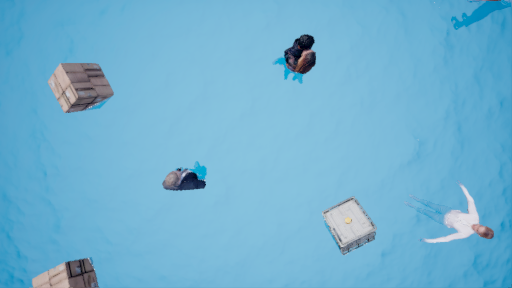person: (407, 181, 491, 250), (153, 152, 220, 199), (278, 33, 332, 85)
